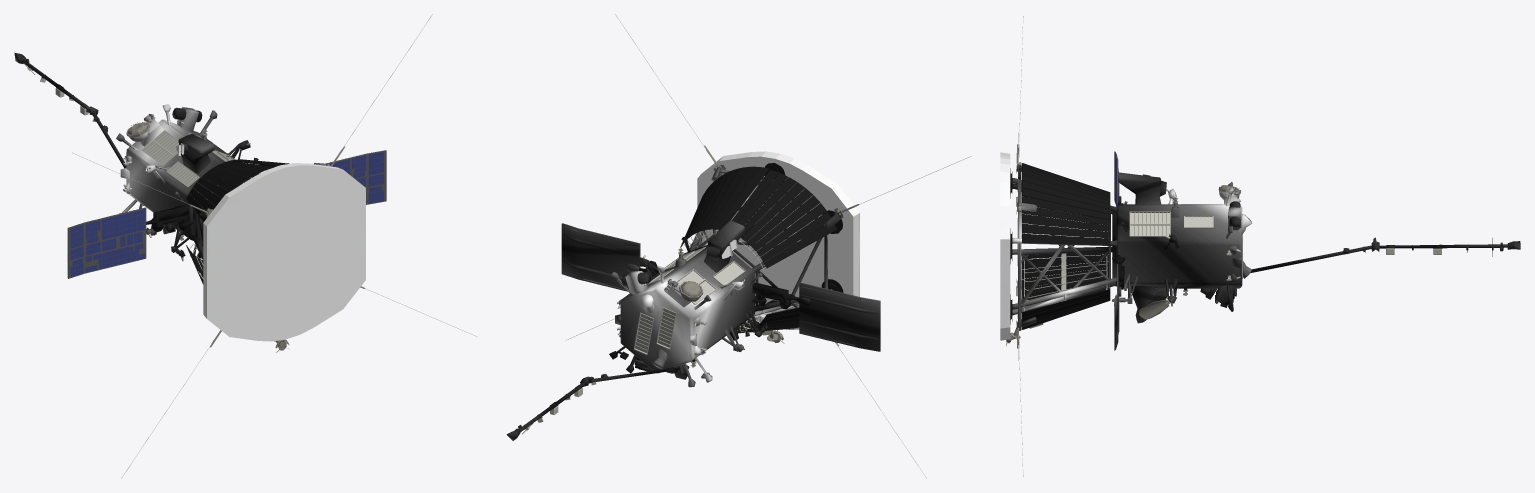
Rendered from parker.glb.
3 renders of one model, left to right at view 1: azimuth 30°, elevation 25°; view 2: azimuth 150°, elevation 25°; view 3: azimuth 270°, elevation 25°, orthographic. The views are drawn at different scales.
Visible parts, largest first — view 1: Instruments, BUS, CoolingSystem, magnetometers, solarArray_arms; view 2: BUS, CoolingSystem, Instruments, magnetometers, solarArray_arms; view 3: BUS, CoolingSystem, Instruments, magnetometers.
Boxes of the visible parts, left/top/right/bottom form: Instruments: left=68, top=122, right=386, bottom=352; BUS: left=14, top=52, right=384, bottom=277; CoolingSystem: left=186, top=159, right=289, bottom=284; magnetometers: left=23, top=14, right=476, bottom=478; solarArray_arms: left=146, top=204, right=192, bottom=232; BUS: left=506, top=164, right=880, bottom=440; CoolingSystem: left=680, top=163, right=843, bottom=333; Instruments: left=562, top=145, right=880, bottom=367; magnetometers: left=522, top=14, right=971, bottom=478; solarArray_arms: left=639, top=260, right=798, bottom=309; BUS: left=1012, top=151, right=1520, bottom=350; CoolingSystem: left=1010, top=163, right=1110, bottom=329; Instruments: left=1000, top=144, right=1240, bottom=350; magnetometers: left=1018, top=16, right=1492, bottom=476.
Bounding box in the file's own units: 5.75 × 5.26 × 6.6.
6 materials, 2 textured.
